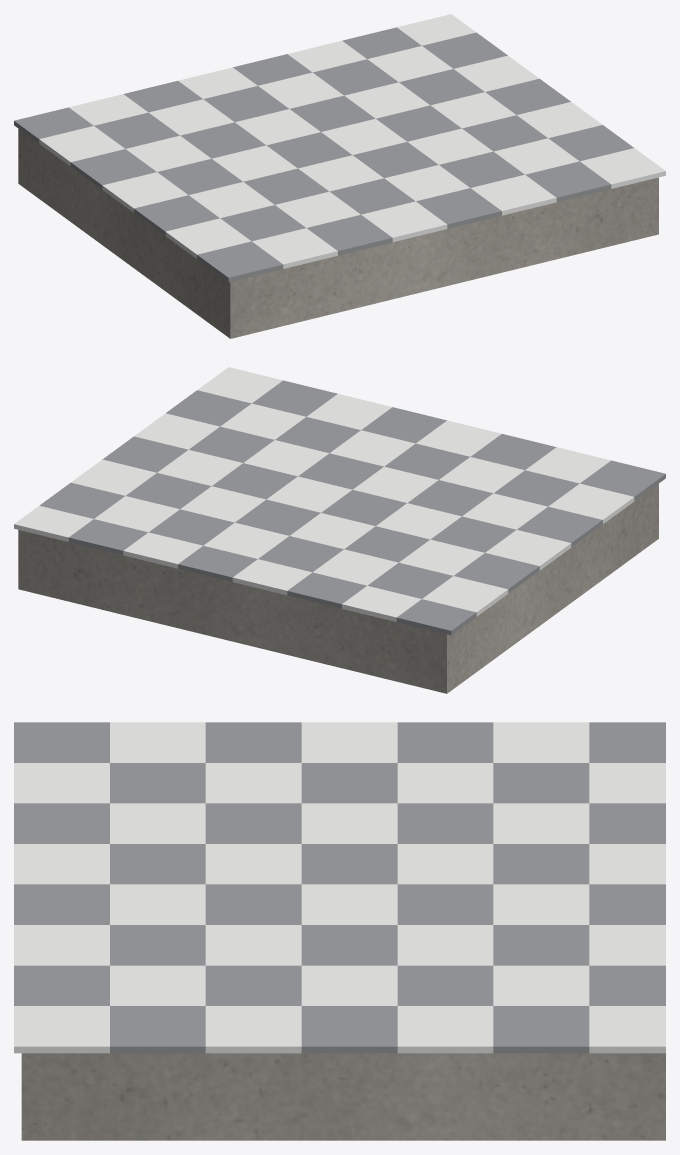
The model's file is floor_tile_g_e0_0_30_0.glb.
3 views of the same model, one above another, from view 1: azimuth 30°, elevation 25°; view 2: azimuth 150°, elevation 25°; view 3: azimuth 270°, elevation 25° (orthographic). The views are drawn at different scales.
Visible parts, largest first — view 1: floor_tile_g_e0_0_30_0_slate, floor_tile_g_e0_0_30_0_tile, floor_tile_g_e0_0_30_0_concrete; view 2: floor_tile_g_e0_0_30_0_slate, floor_tile_g_e0_0_30_0_tile, floor_tile_g_e0_0_30_0_concrete; view 3: floor_tile_g_e0_0_30_0_tile, floor_tile_g_e0_0_30_0_slate, floor_tile_g_e0_0_30_0_concrete.
Part boxes in pixels (box(x1,y1,x2,y2)): floor_tile_g_e0_0_30_0_slate: box(14, 27, 633, 282); floor_tile_g_e0_0_30_0_tile: box(39, 14, 665, 268); floor_tile_g_e0_0_30_0_concrete: box(18, 129, 658, 338); floor_tile_g_e0_0_30_0_slate: box(39, 380, 665, 635); floor_tile_g_e0_0_30_0_tile: box(14, 367, 634, 621); floor_tile_g_e0_0_30_0_concrete: box(18, 484, 658, 693); floor_tile_g_e0_0_30_0_tile: box(14, 722, 665, 1053); floor_tile_g_e0_0_30_0_slate: box(14, 722, 665, 1053); floor_tile_g_e0_0_30_0_concrete: box(21, 1053, 665, 1140).
Size of the model in its own units: 2 by 0.28 by 1.7.
3 materials, 1 textured.
